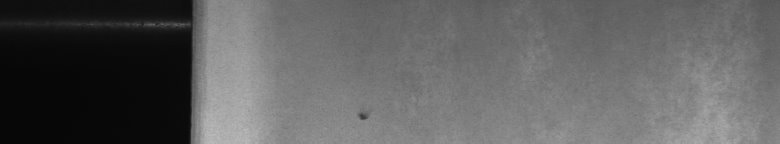fi: (356, 108, 372, 128)
